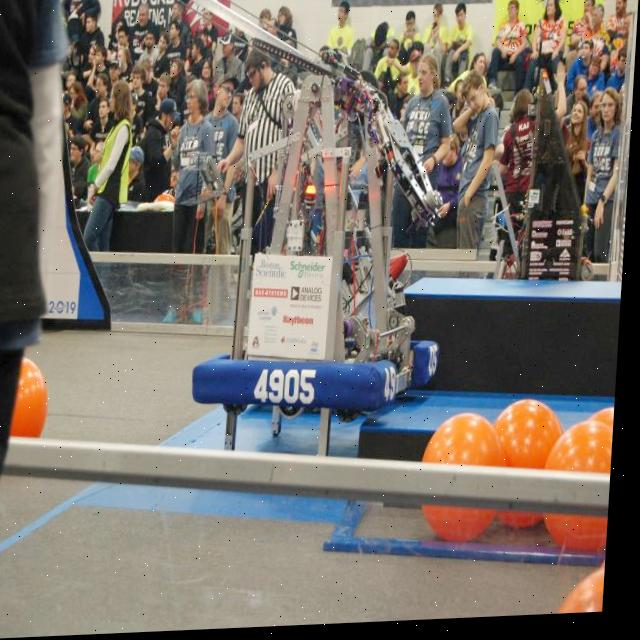robot: (191, 57, 460, 428)
